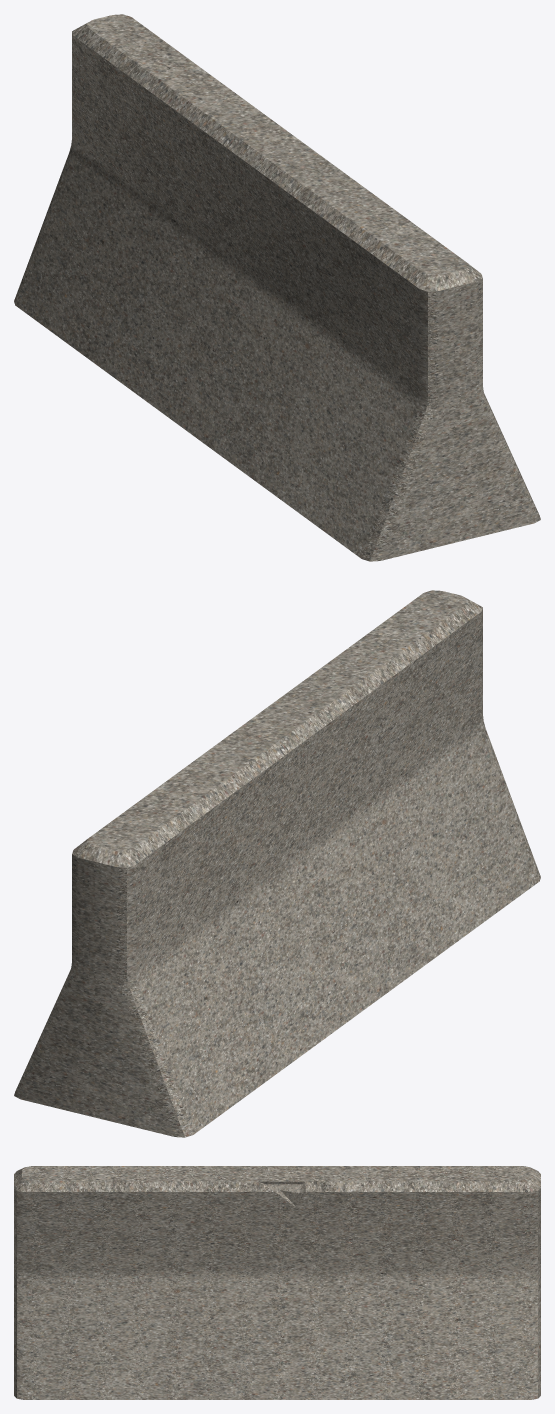
File: bariera.fbx
The picture shows the model from 3 angles, top to bottom: view 1: azimuth 30°, elevation 25°; view 2: azimuth 150°, elevation 25°; view 3: azimuth 270°, elevation 25°; orthographic projection. The views are drawn at different scales.
Parts seen in each view (by area): view 1: Cube; view 2: Cube; view 3: Cube.
Boxes of the visible parts, <box> form: Cube: <box>14,14,540,561</box>; Cube: <box>14,590,540,1137</box>; Cube: <box>14,1166,540,1399</box>.
Bounding box in the file's own units: 50 × 71.22 × 175.
